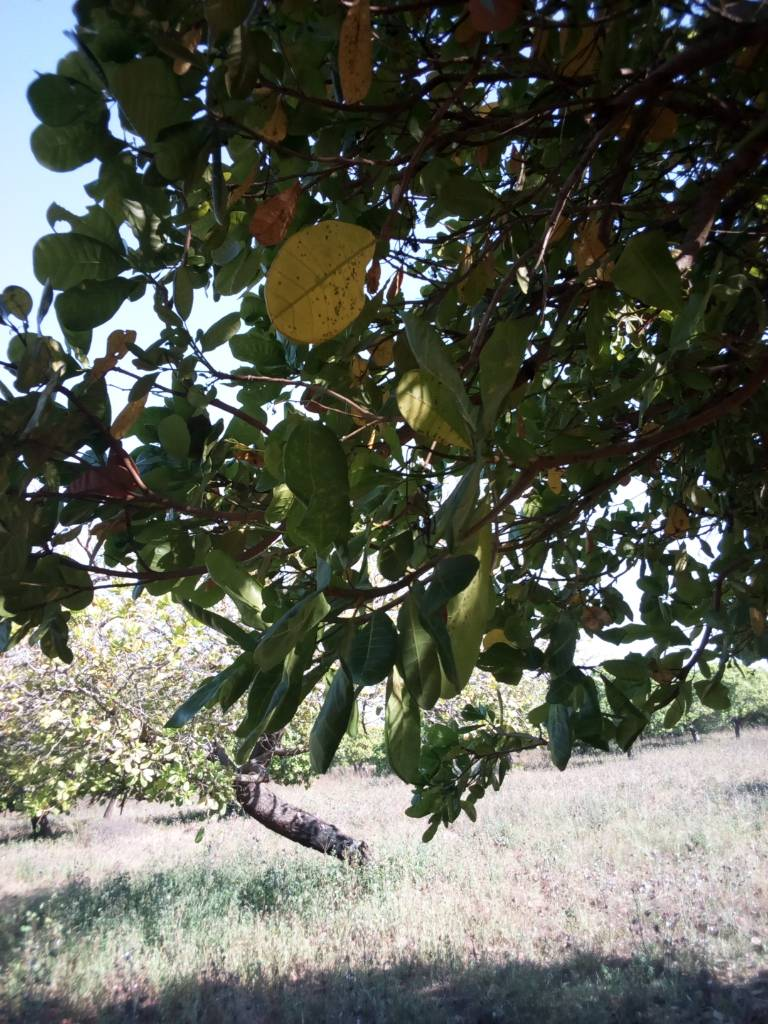Anthracnose: (261, 221, 379, 346), (329, 2, 382, 110)
